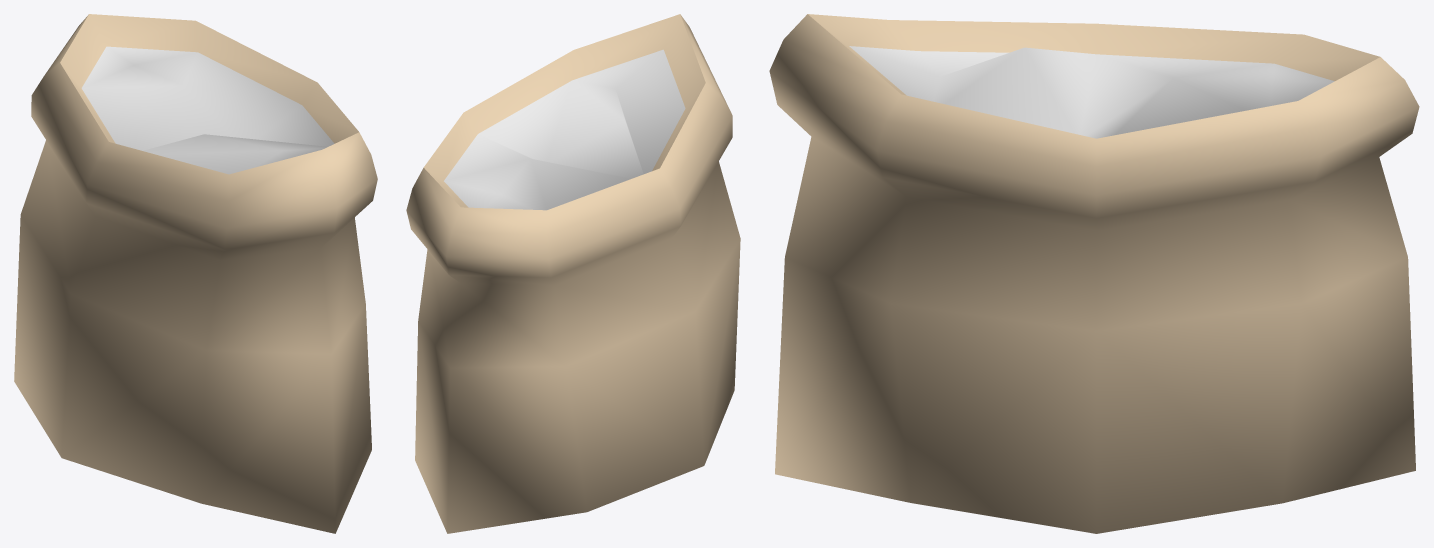
Rendered from Sac de farine ouvert.fbx.
The picture shows the model from 3 angles, left to right: view 1: azimuth 30°, elevation 25°; view 2: azimuth 150°, elevation 25°; view 3: azimuth 270°, elevation 25°; orthographic projection. The views are drawn at different scales.
Visible parts, largest first — view 1: Sac de farine ouvert; view 2: Sac de farine ouvert; view 3: Sac de farine ouvert.
Boxes of the visible parts, left/top/right/bottom form: Sac de farine ouvert: left=14, top=14, right=377, bottom=533; Sac de farine ouvert: left=406, top=14, right=740, bottom=533; Sac de farine ouvert: left=769, top=14, right=1419, bottom=533.
Bounding box in the file's own units: 75.69 × 99.93 × 126.
